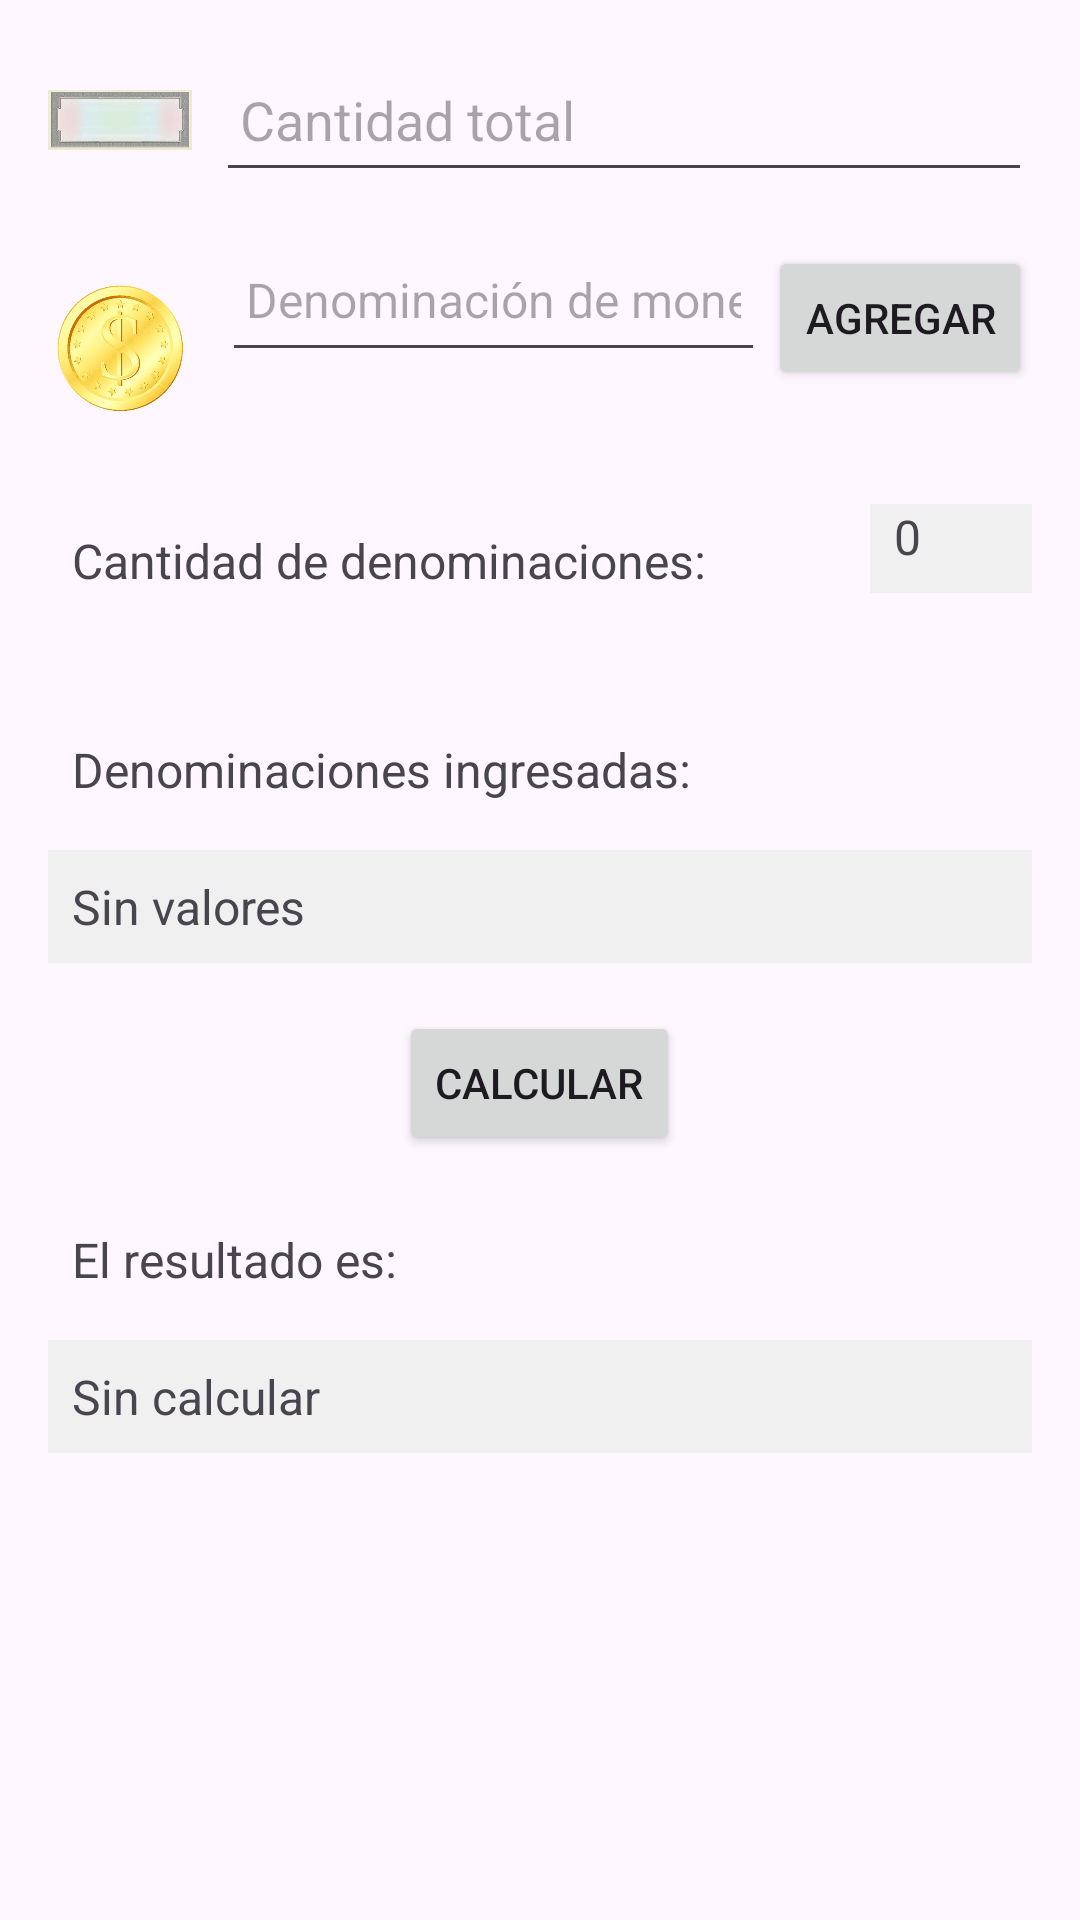

Point at icon controls on the screen. Image size 1080px x 1920px, points as (x=x, y=y).
totalbillete: (x=120, y=120)
tu moneda: (x=120, y=348)
